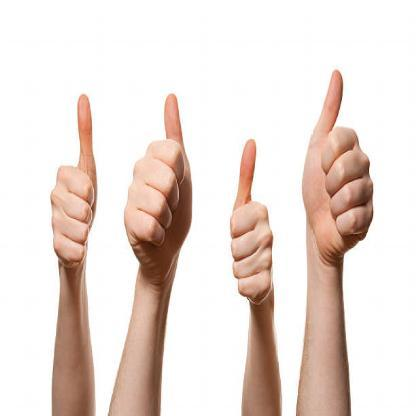thumb_up: (301, 65, 377, 268), (122, 86, 197, 286), (48, 90, 106, 270), (226, 134, 276, 310)
